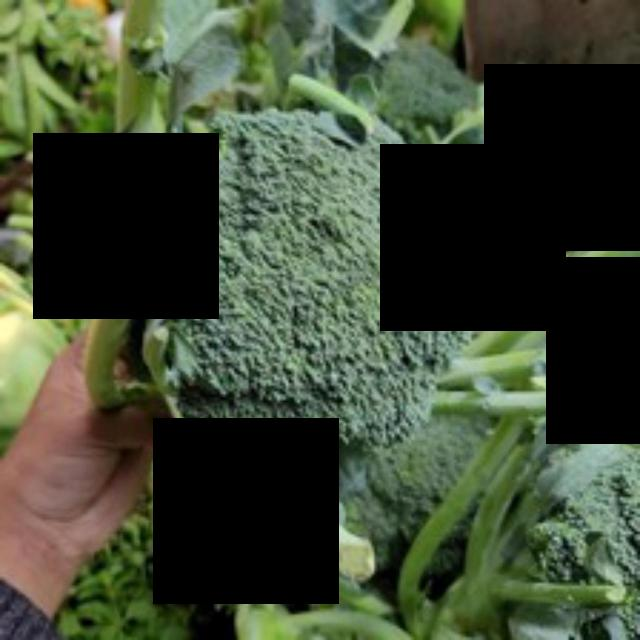broccoli: (95, 97, 484, 463)
